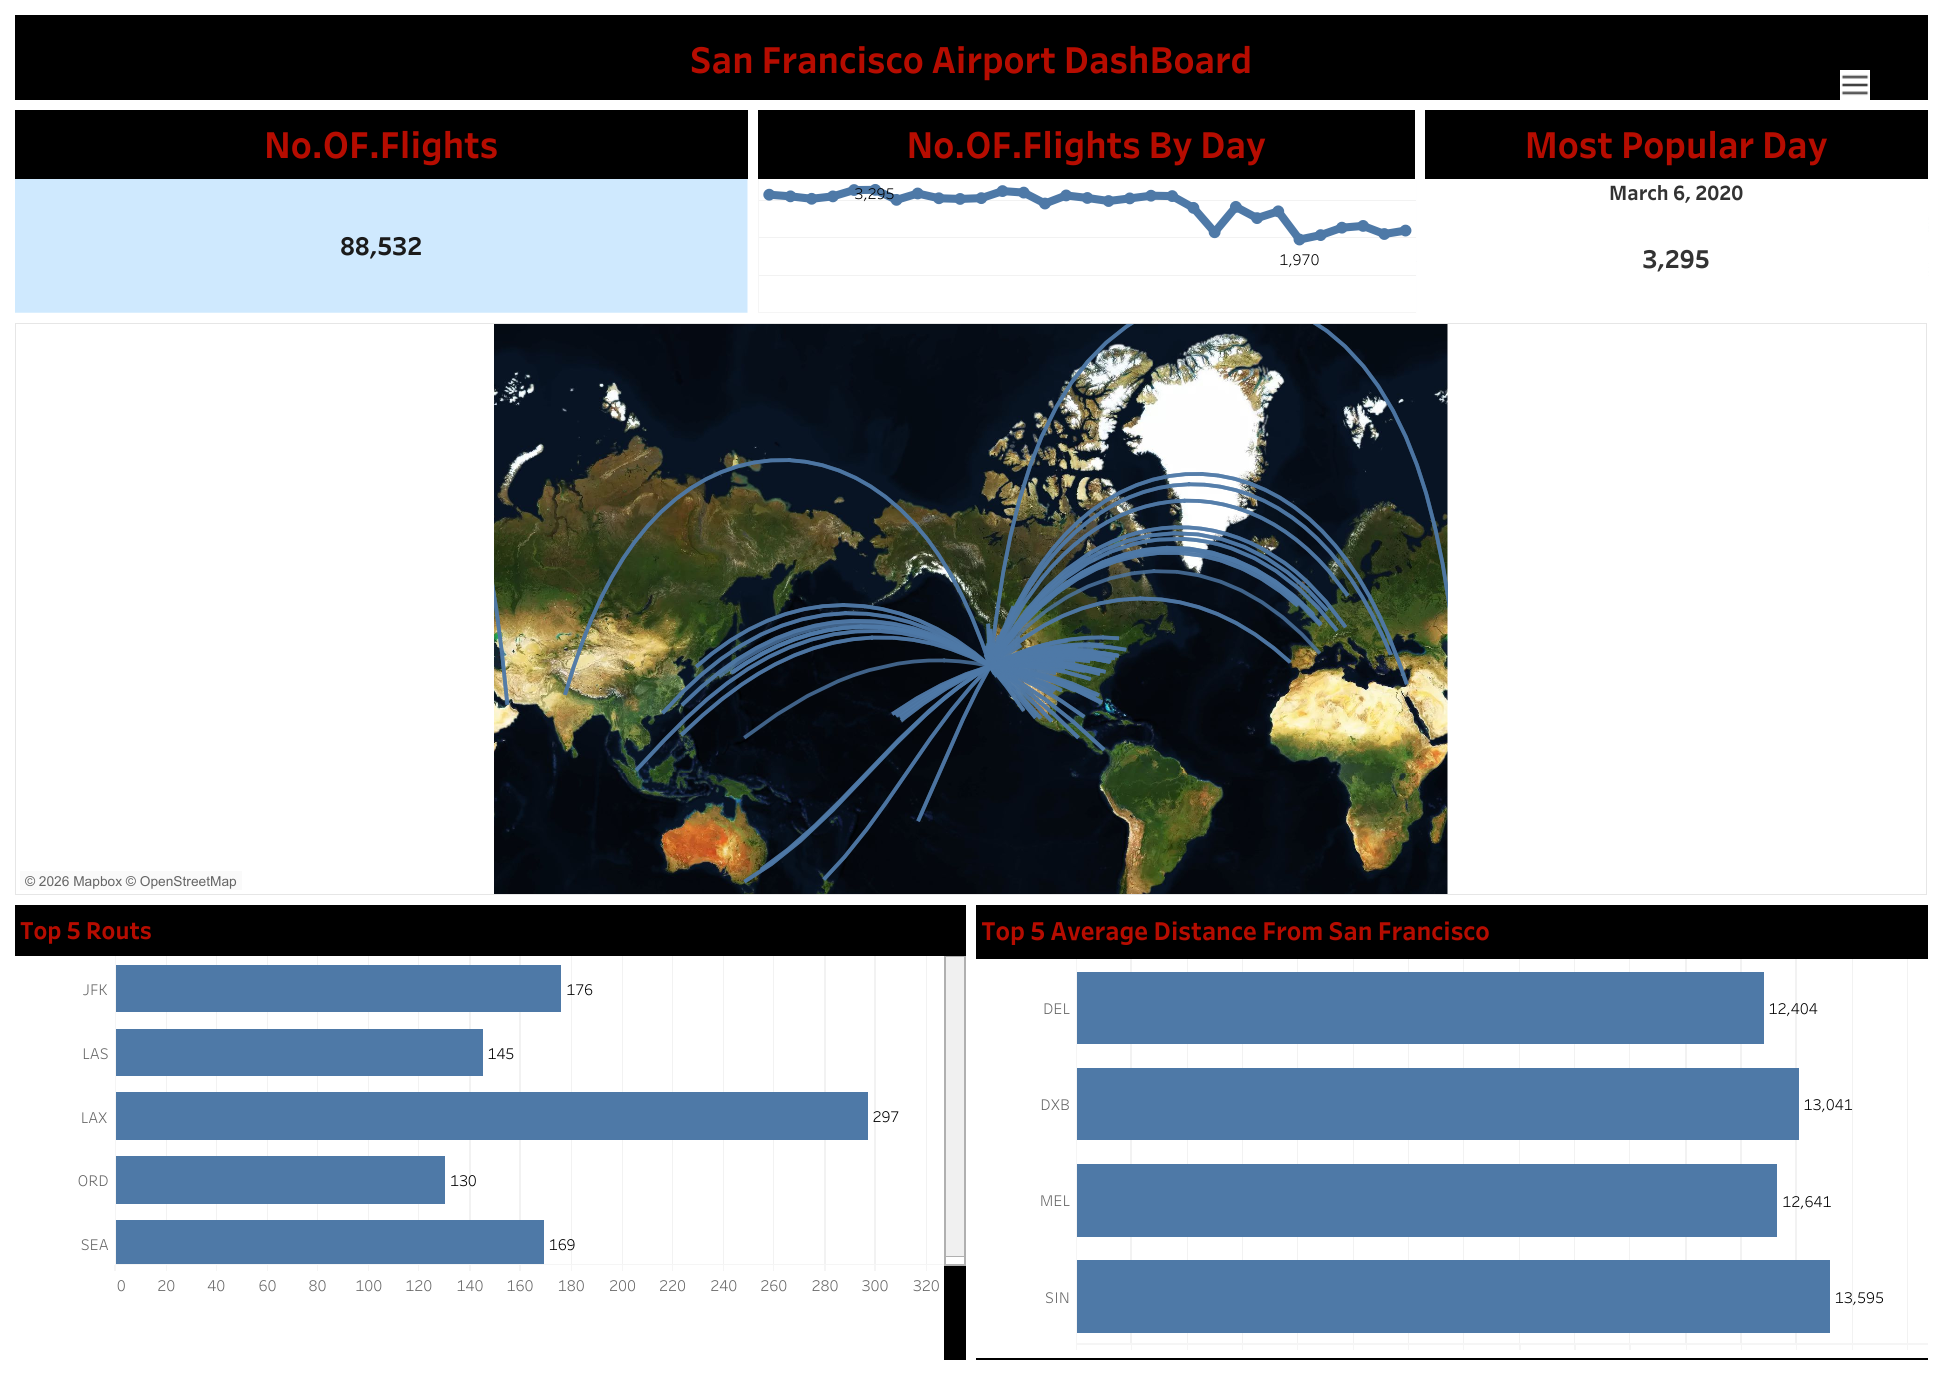

The page's visual inventory and layout, read from the dashboard file:
{"tool":"tableau","page":{"name":"Dashboard 1","canvas":[1554,1100],"ordinal":0},"visuals":[{"type":"text","box":[8,8,1538,75.9]},{"type":"dashboard-object","box":[1472,56,24,24]},{"type":"filter","title":"Routs","param":"[federated.113vkki18mh78n1f6tgbj1xnae4g].[none:Route:nk]","box":[1352,81,160,135]},{"type":"worksheet","title":"No.OF.Flights","mark":"Automatic","box":[8,83.9,594,170]},{"type":"worksheet","title":"No.OF.Flights.By Day","mark":"Automatic","rows":["Calculation_0227918732574720"],"cols":["Date"],"box":[602,83.9,533.7,170]},{"type":"worksheet","title":"Most PopularDay","mark":"Automatic","cols":["Date"],"box":[1135.8,83.9,410.2,170]},{"type":"filter","title":"Most PopularDay","param":"[federated.113vkki18mh78n1f6tgbj1xnae4g].[none:Date:ok]","box":[1352,216,160,48]},{"type":"worksheet","title":"Map","mark":"Multipolygon","box":[8,254,1538,466]},{"type":"filter","title":"Map","param":"[federated.113vkki18mh78n1f6tgbj1xnae4g].[sum:Calculation_0227918759010308:qk]","box":[1352,264,160,73]},{"type":"worksheet","title":"Routs","mark":"Automatic","rows":["Calculation_0227918755778561"],"cols":["Calculation_0227918732574720"],"box":[8,720,768.9,372]},{"type":"worksheet","title":"Distance","mark":"Automatic","rows":["Calculation_0227918755778561"],"cols":["Calculation_0227918759010308"],"box":[776.9,720,769.1,372]}]}

Visuals, with their boxes in screenshot pixels (x1, y1, x2, y2), scaled from the page's 1554x1100 canvas onto the 1941x1374 screenshot:
text: box=[10, 10, 1931, 105]
dashboard-object: box=[1839, 70, 1869, 100]
"Routs" filter: box=[1689, 101, 1889, 270]
"No.OF.Flights" worksheet: box=[10, 105, 752, 317]
"No.OF.Flights.By Day" worksheet: box=[752, 105, 1419, 317]
"Most PopularDay" worksheet: box=[1419, 105, 1931, 317]
"Most PopularDay" filter: box=[1689, 270, 1889, 330]
"Map" worksheet (Multipolygon marks): box=[10, 317, 1931, 899]
"Map" filter: box=[1689, 330, 1889, 421]
"Routs" worksheet: box=[10, 899, 970, 1364]
"Distance" worksheet: box=[970, 899, 1931, 1364]
